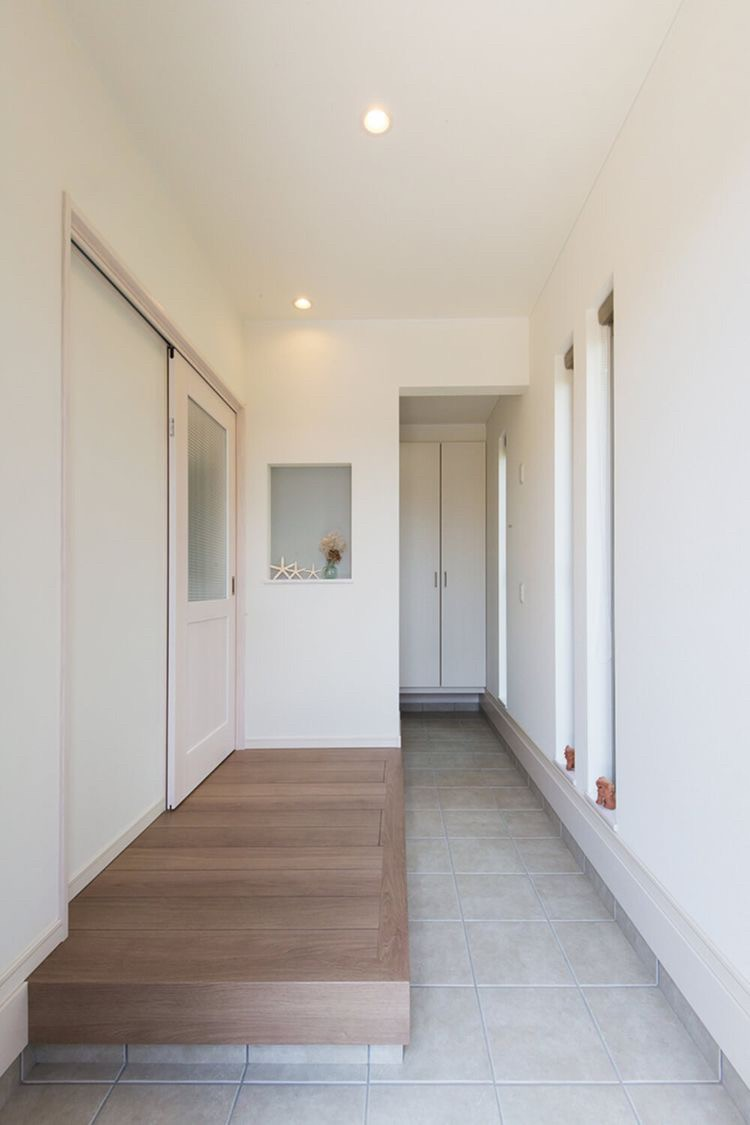floor: (0, 710, 749, 1124)
